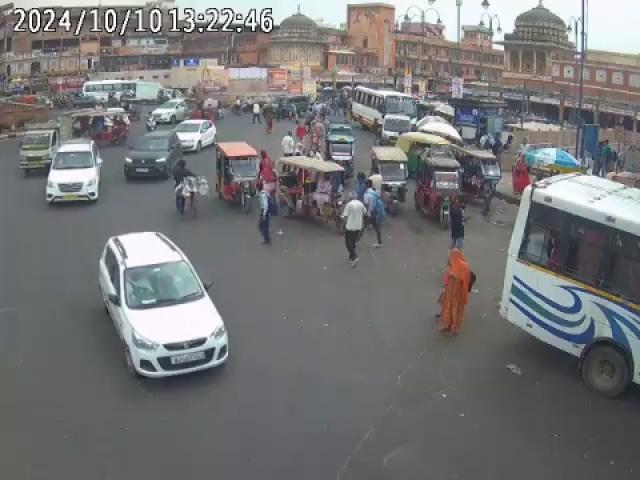auto: (274, 155, 346, 228), (410, 138, 465, 226), (216, 141, 264, 211), (455, 144, 501, 206), (368, 146, 408, 203), (68, 108, 130, 144)
bus: (501, 172, 640, 386), (348, 86, 417, 138), (80, 81, 166, 106)
car: (92, 234, 228, 384), (42, 138, 102, 208), (123, 132, 182, 182), (172, 118, 218, 153)
license_plate: (168, 350, 208, 365), (61, 193, 85, 199)
lorry: (17, 116, 64, 172)
person: (435, 246, 476, 340), (341, 191, 368, 264), (366, 184, 389, 246), (257, 184, 277, 244)
